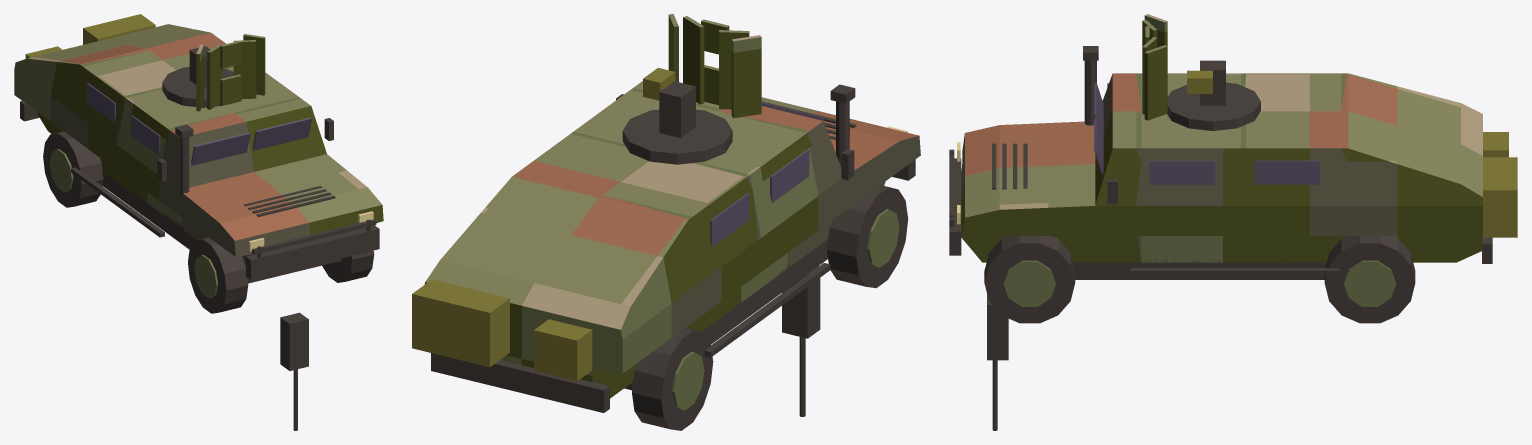
Rendered from SM_Vamtac_Animable_LOD0.fbx.
The picture shows the model from 3 angles, left to right: view 1: azimuth 30°, elevation 25°; view 2: azimuth 150°, elevation 25°; view 3: azimuth 270°, elevation 25°; orthographic projection. The views are drawn at different scales.
Parts seen in each view (by area): view 1: SM_bloques.vamtac_animable_v0_LOD0, Aro, Rueda_1R, Rueda_2R, Ametralladora, Rueda_1L; view 2: SM_bloques.vamtac_animable_v0_LOD0, Aro, Rueda_1R, Rueda_2R, Ametralladora; view 3: SM_bloques.vamtac_animable_v0_LOD0, Aro, Rueda_1L, Rueda_2L, Ametralladora.
Boxes of the visible parts, x1=… form: SM_bloques.vamtac_animable_v0_LOD0: x1=14, y1=14, x2=383, y2=283; Aro: x1=162, y1=34, x2=265, y2=111; Rueda_1R: x1=188, y1=237, x2=248, y2=313; Rueda_2R: x1=43, y1=131, x2=103, y2=207; Ametralladora: x1=280, y1=312, x2=308, y2=430; Rueda_1L: x1=322, y1=250, x2=374, y2=282; SM_bloques.vamtac_animable_v0_LOD0: x1=412, y1=81, x2=920, y2=412; Aro: x1=622, y1=14, x2=761, y2=164; Rueda_1R: x1=827, y1=185, x2=908, y2=288; Rueda_2R: x1=632, y1=327, x2=713, y2=430; Ametralladora: x1=782, y1=266, x2=820, y2=416; SM_bloques.vamtac_animable_v0_LOD0: x1=949, y1=46, x2=1517, y2=279; Aro: x1=1142, y1=14, x2=1260, y2=130; Rueda_1L: x1=984, y1=236, x2=1075, y2=323; Rueda_2L: x1=1324, y1=236, x2=1415, y2=323; Ametralladora: x1=987, y1=294, x2=1008, y2=430.
Bounding box in the file's own units: 2.68 × 5.04 × 6.52.
